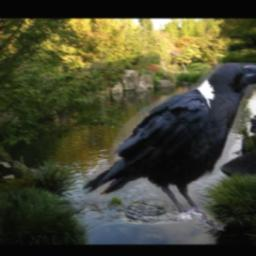Crow: (81, 64, 256, 232)
